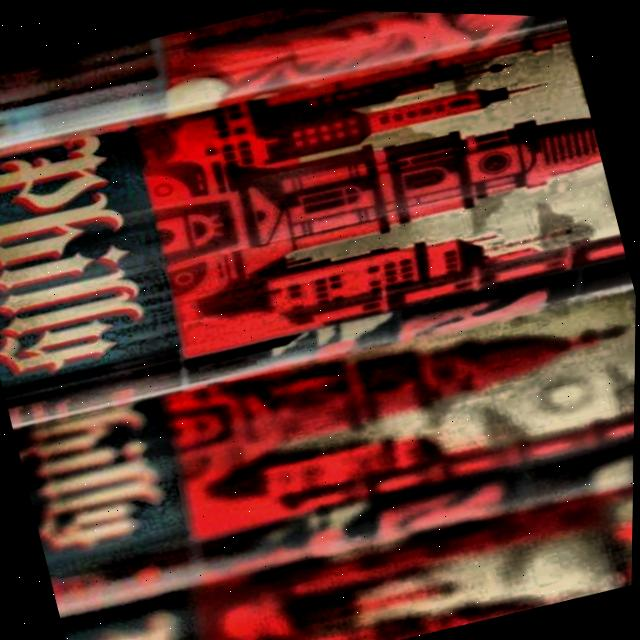metal: (0, 0, 637, 449), (8, 253, 637, 640), (54, 426, 635, 640)
